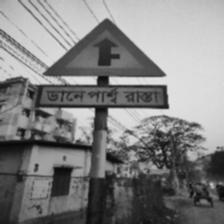Animal: (33, 14, 176, 119)
